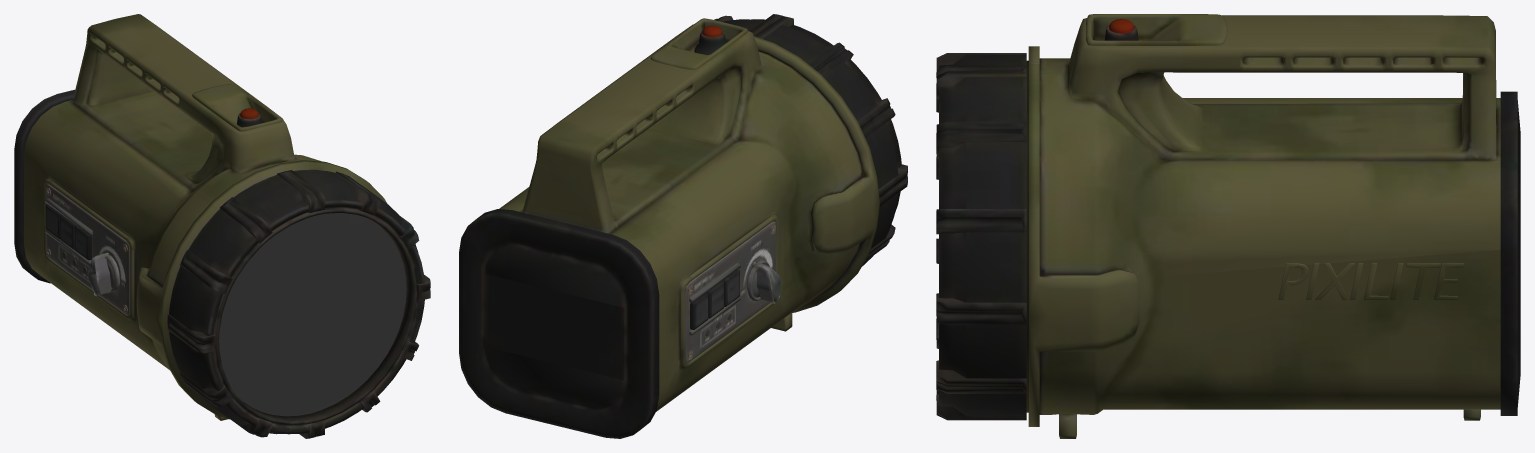
File: faro.glb
3 renders of one model, left to right at view 1: azimuth 30°, elevation 25°; view 2: azimuth 150°, elevation 25°; view 3: azimuth 270°, elevation 25°, orthographic. The views are drawn at different scales.
Visible parts, largest first — view 1: portable_searchlight; view 2: portable_searchlight; view 3: portable_searchlight.
Boxes of the visible parts, left/top/right/bottom form: portable_searchlight: left=14, top=14, right=430, bottom=438; portable_searchlight: left=459, top=14, right=907, bottom=438; portable_searchlight: left=936, top=14, right=1520, bottom=438.
Size of the model in its own units: 0.1653 by 0.1853 by 0.2534.
Materials: 2 (2 with a texture image).
